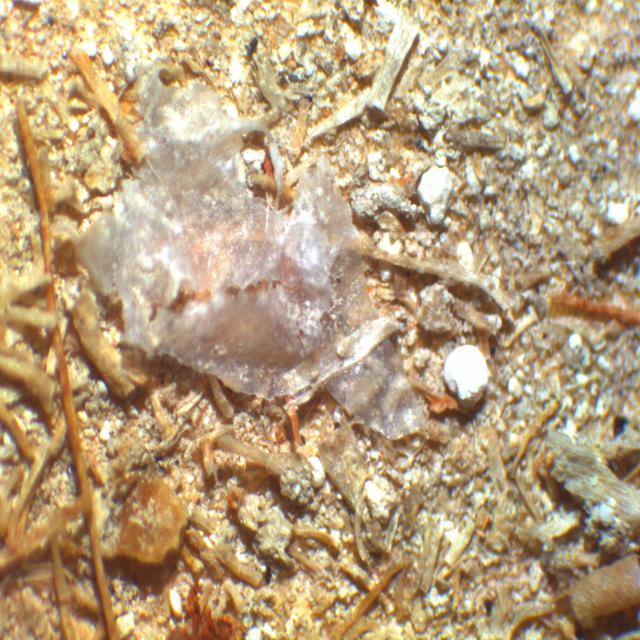microplastic: (77, 61, 432, 446)
